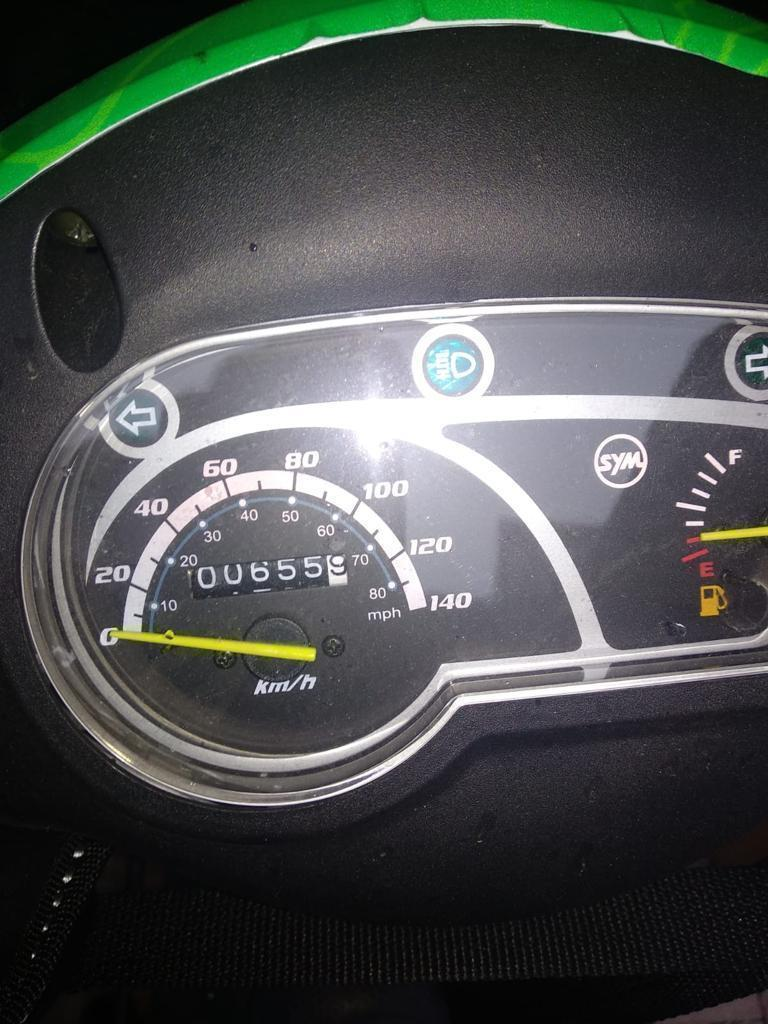0: (222, 561, 244, 586), (197, 565, 217, 590), (188, 552, 197, 566)
5: (274, 557, 298, 580), (302, 554, 324, 577)
6: (249, 557, 270, 581)
7: (351, 553, 359, 566)
9: (329, 554, 348, 578)
odometer: (187, 551, 359, 598)
